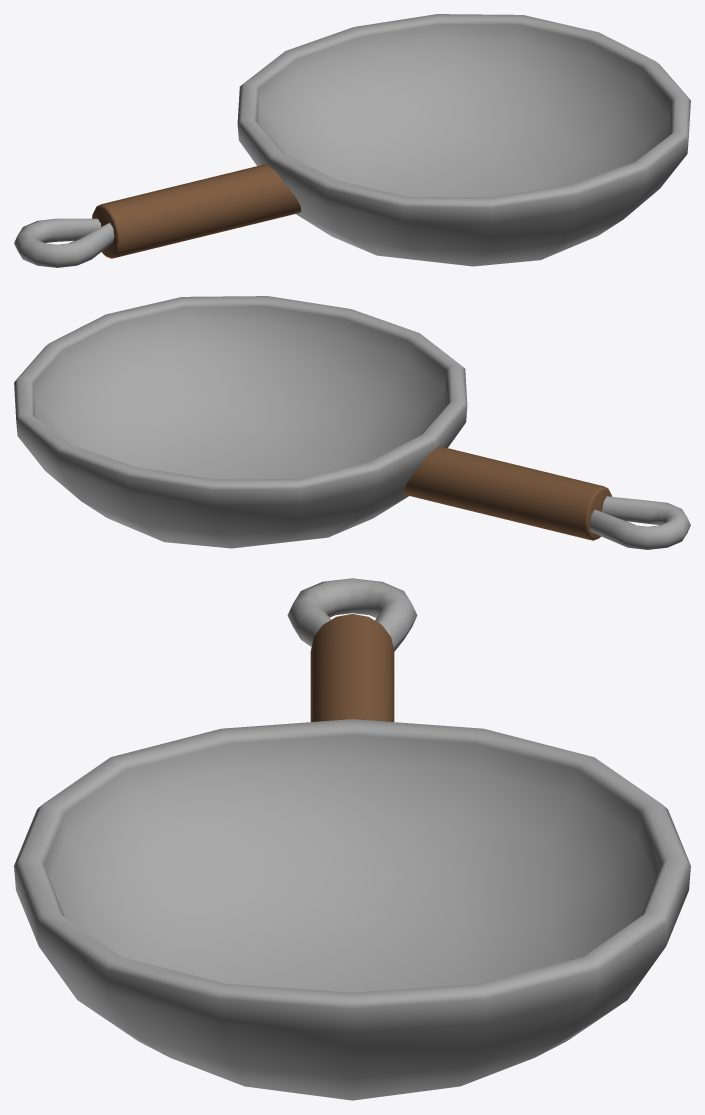
File: Frying_pan_1.glb
3 renders of one model, top to bottom at view 1: azimuth 30°, elevation 25°; view 2: azimuth 150°, elevation 25°; view 3: azimuth 270°, elevation 25°, orthographic. The views are drawn at different scales.
Visible parts, largest first — view 1: Frying_pan_1; view 2: Frying_pan_1; view 3: Frying_pan_1.
Boxes of the visible parts, x1=… form: Frying_pan_1: x1=14, y1=14, x2=690, y2=267; Frying_pan_1: x1=14, y1=296, x2=690, y2=549; Frying_pan_1: x1=14, y1=578, x2=690, y2=1100.
Size of the model in its own units: 0.7779 by 0.1407 by 0.4751.
Materials: 1 (1 with a texture image).
